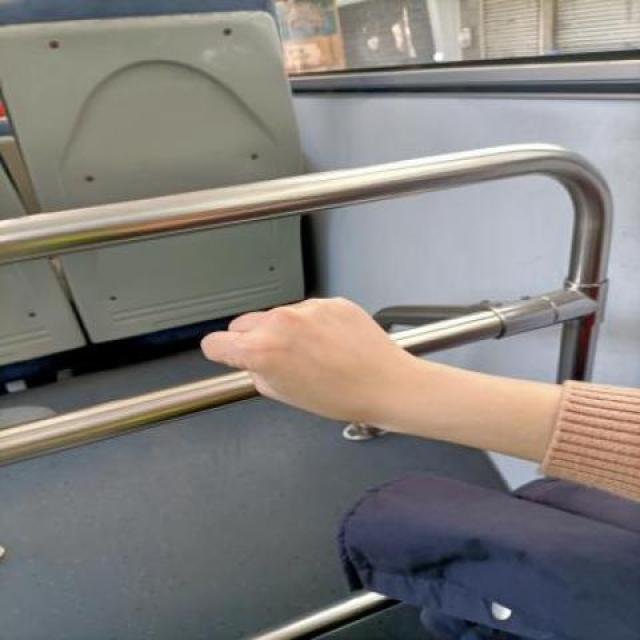Closed Hand: (197, 292, 408, 432)
